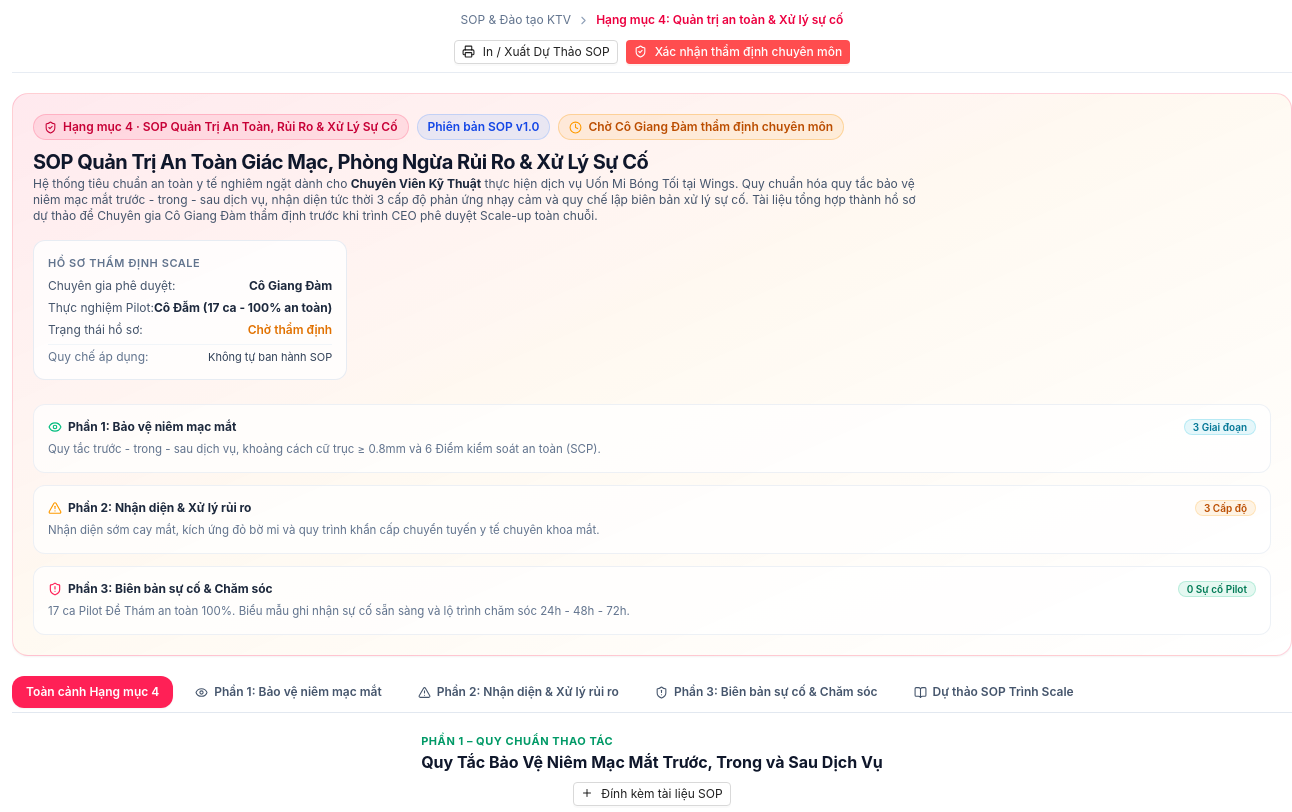
Test case: PilotSafetyRiskSopDetail › can toggle expert approval status between Chờ thẩm định and Đã thẩm định
Check: the text "Xác nhận thẩm định chuyên môn" is shown, box [655,44,842,60]
Click the button with test id "toggle-approval-btn".
click(738, 52)  # box [626,40,850,64]
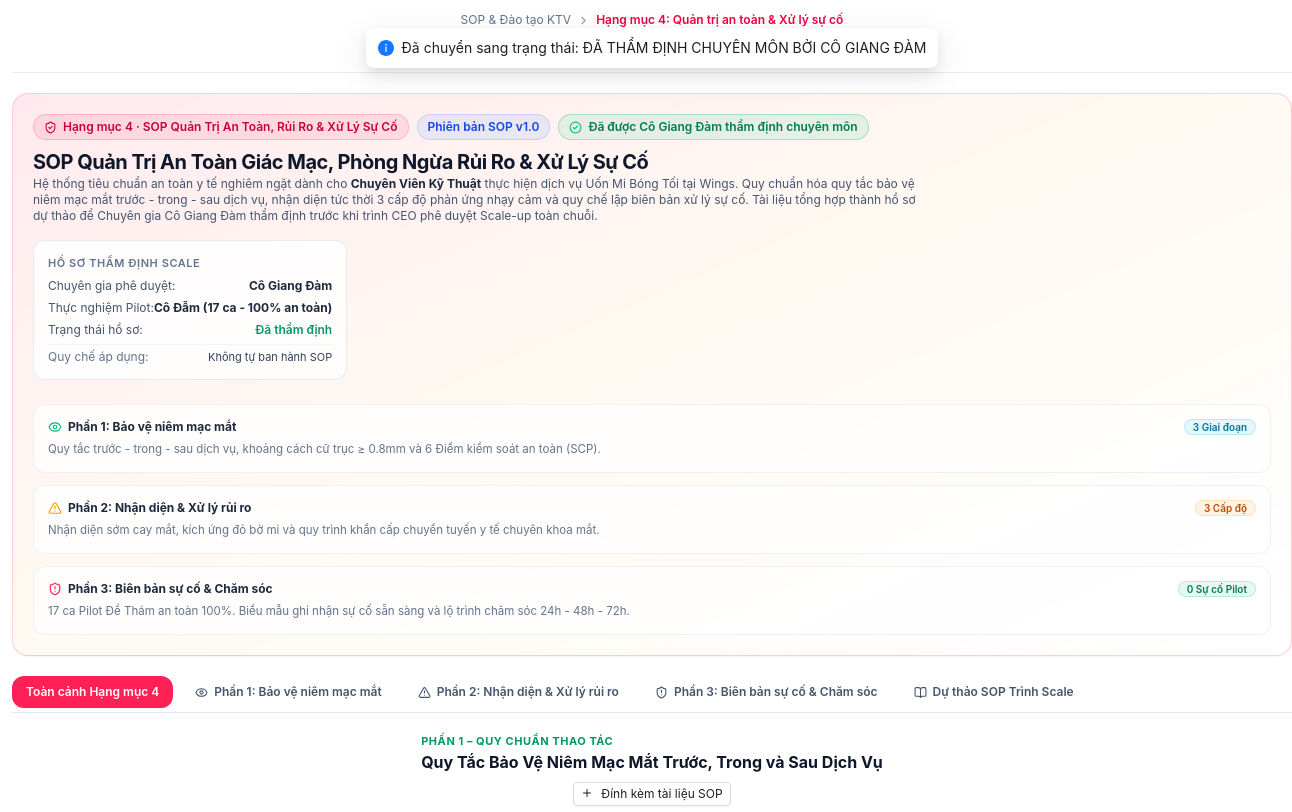
Check: the text "Đã thẩm định chuyên môn" is shown, box [673,44,823,60]
Check: the text "Đã được Cô Giang Đàm thẩm định chuyên môn" is shown, box [558,114,869,140]
